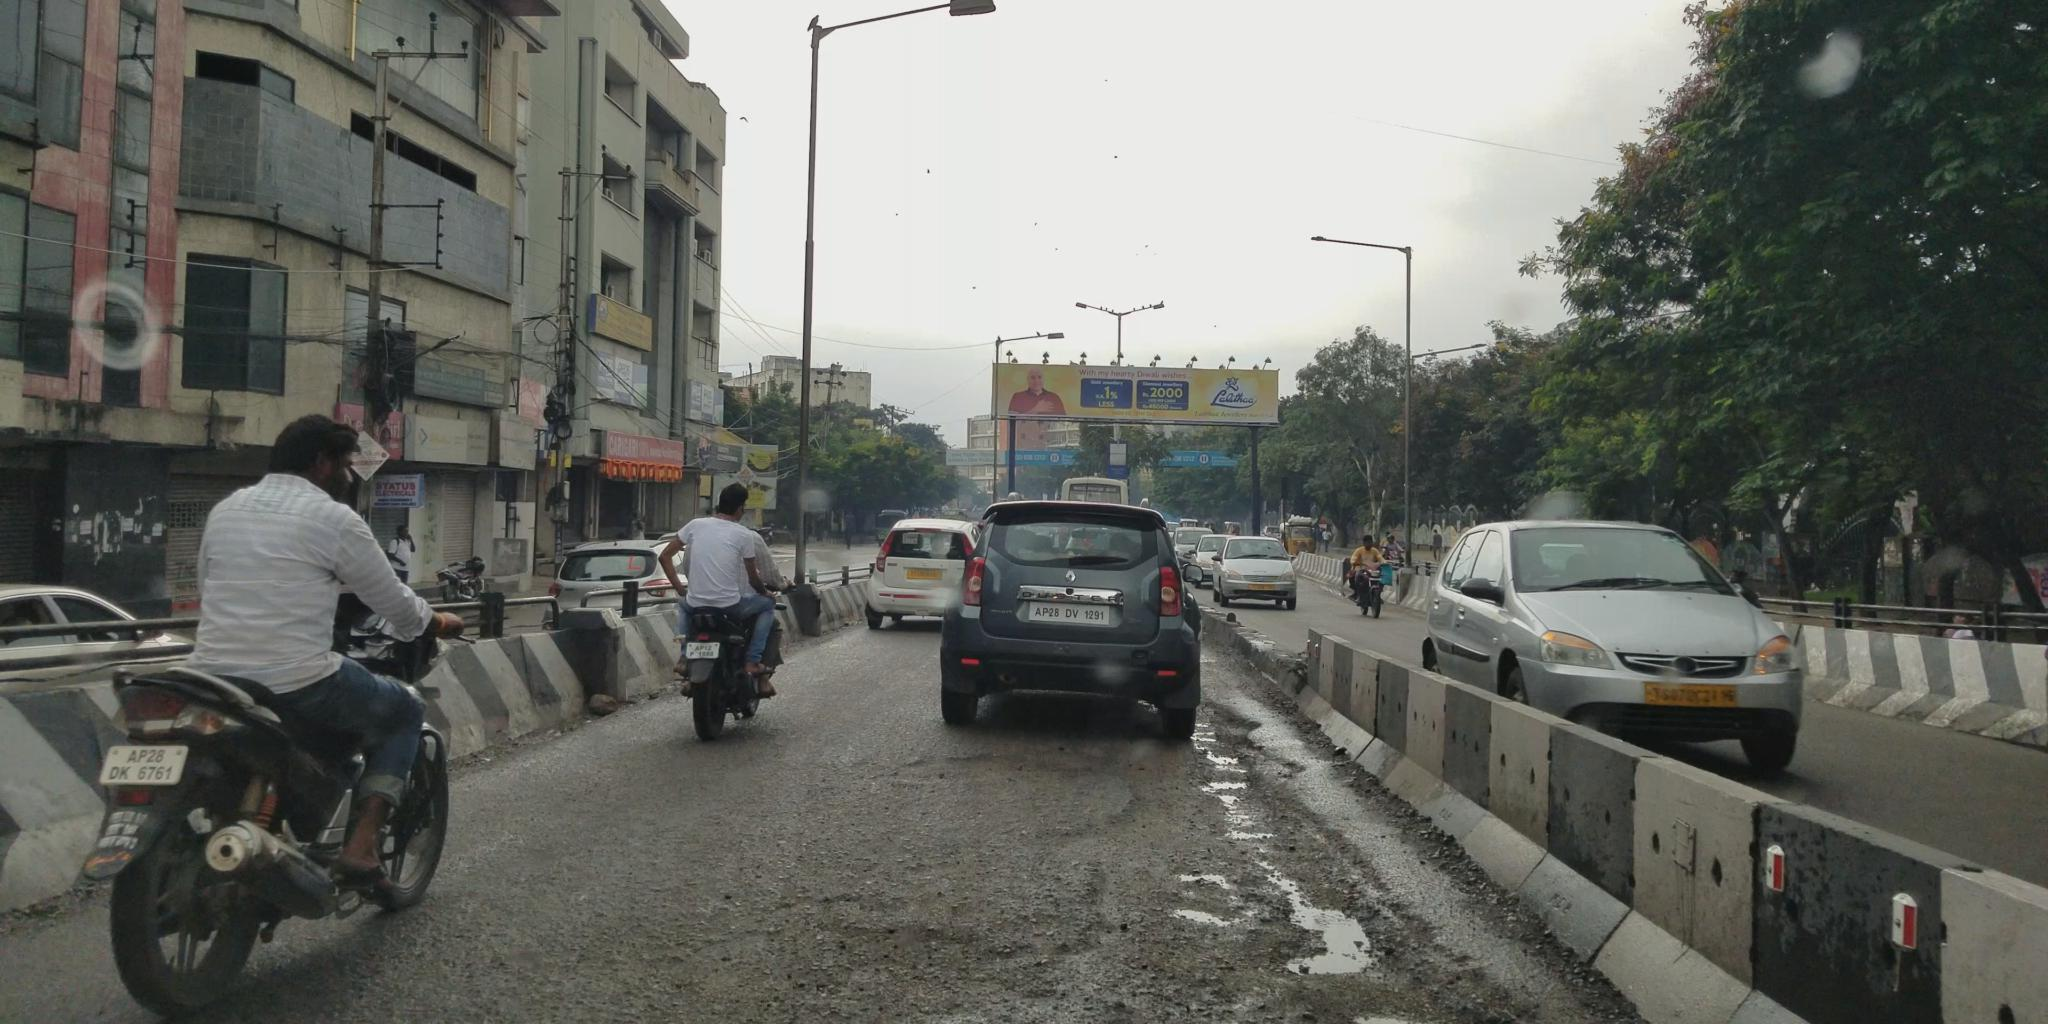off: (0, 0, 2048, 848)
